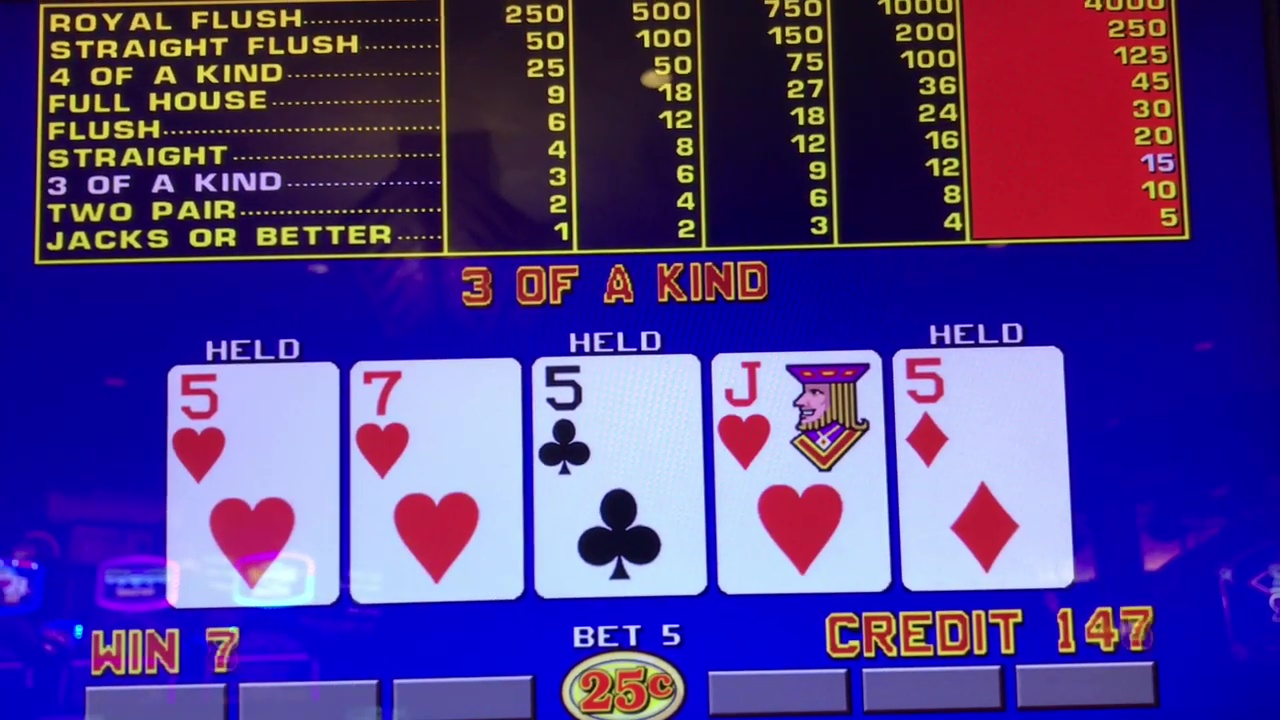C5: (537, 356, 701, 593)
D5: (901, 350, 1061, 587)
H5: (175, 367, 330, 602)
H7: (356, 365, 516, 598)
HJ: (717, 357, 878, 591)
